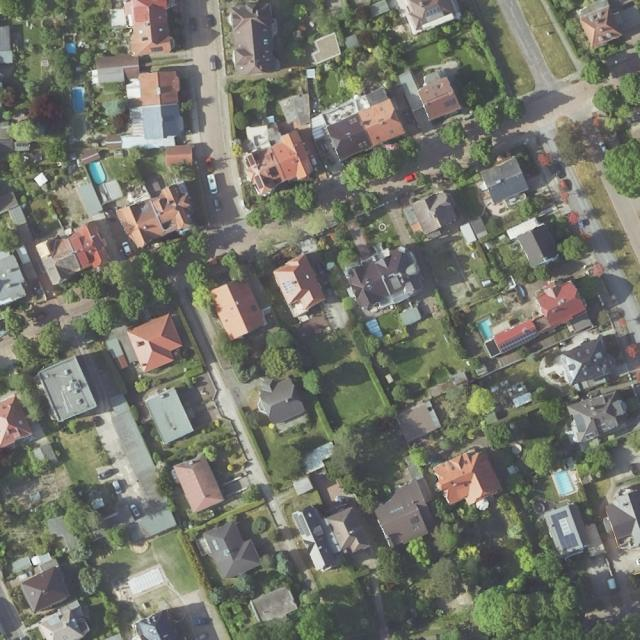PV: (550, 510, 578, 551), (499, 329, 539, 353), (293, 513, 312, 538), (280, 280, 295, 295), (424, 7, 442, 17)
ST: (255, 175, 263, 189), (444, 98, 456, 107), (409, 516, 419, 525), (248, 154, 255, 165)
